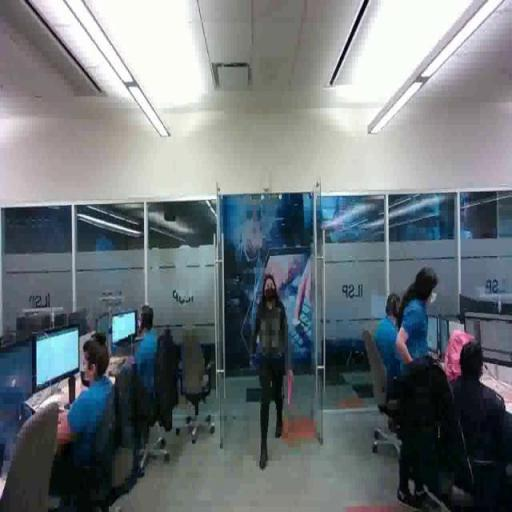person: (386, 266, 453, 512), (38, 337, 120, 508), (439, 338, 512, 502), (246, 267, 296, 480), (117, 302, 173, 432), (370, 290, 416, 392)
